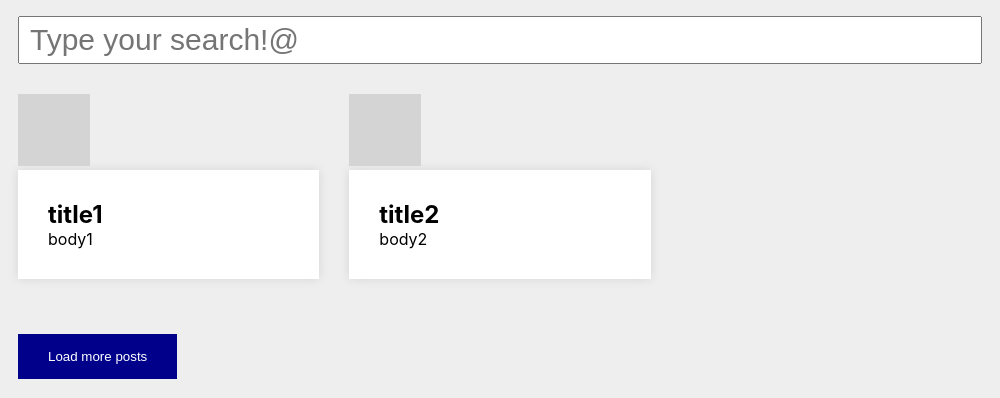
Scenario: <Home /> › should have the right button behaviors
Click the button "Load more posts" at (98, 356), box left=18, top=334, right=177, bottom=379
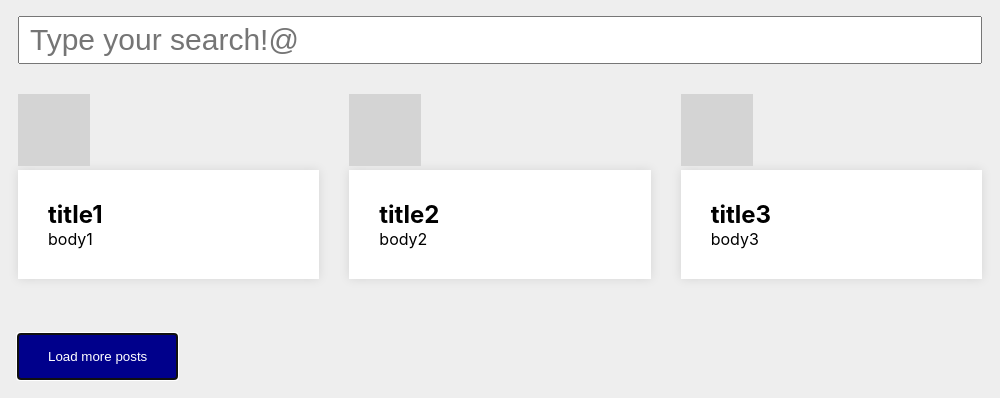
Now the heading "title3" is shown, box left=711, top=200, right=771, bottom=229
